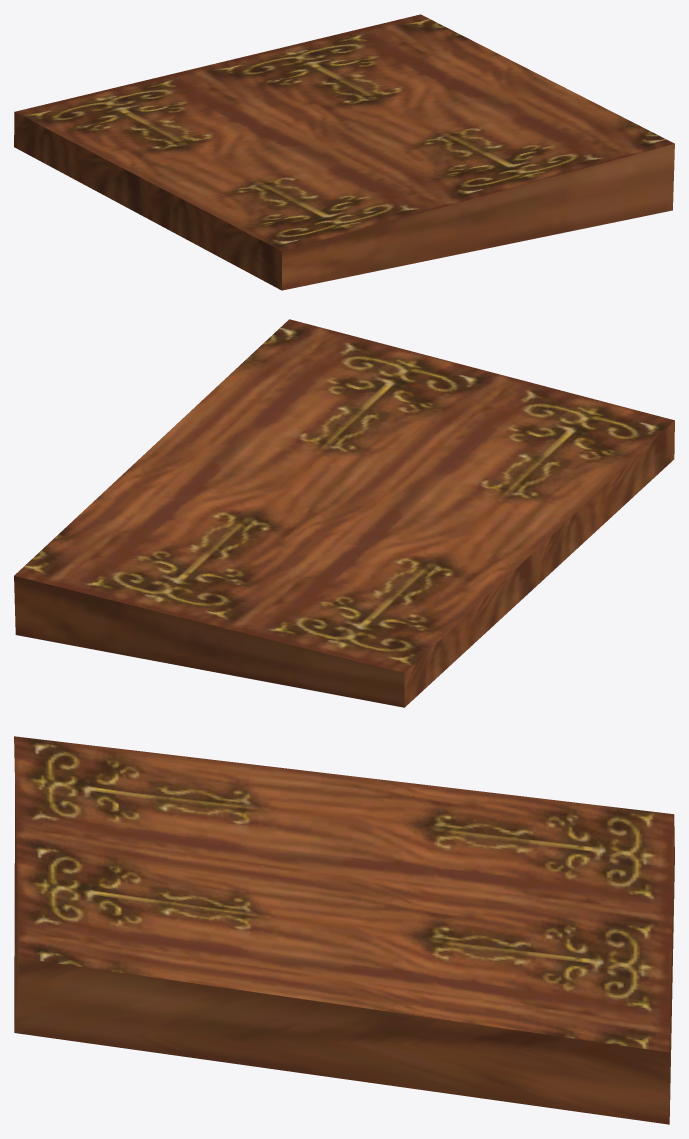
File: EKH_THRONE_PS_TH_THRONE_STEP_04.fbx
3 renders of one model, top to bottom at view 1: azimuth 30°, elevation 25°; view 2: azimuth 150°, elevation 25°; view 3: azimuth 270°, elevation 25°, orthographic. The views are drawn at different scales.
Parts seen in each view (by area): view 1: EKH_THRONE_PS_TH_THRONE_STEP_04; view 2: EKH_THRONE_PS_TH_THRONE_STEP_04; view 3: EKH_THRONE_PS_TH_THRONE_STEP_04.
Boxes of the visible parts, bbox=[...] form: EKH_THRONE_PS_TH_THRONE_STEP_04: bbox=[14, 14, 674, 290]; EKH_THRONE_PS_TH_THRONE_STEP_04: bbox=[14, 319, 674, 707]; EKH_THRONE_PS_TH_THRONE_STEP_04: bbox=[14, 736, 674, 1124].
Size of the model in its own units: 10368 by 3182 by 11979.
1 material, 1 textured.
